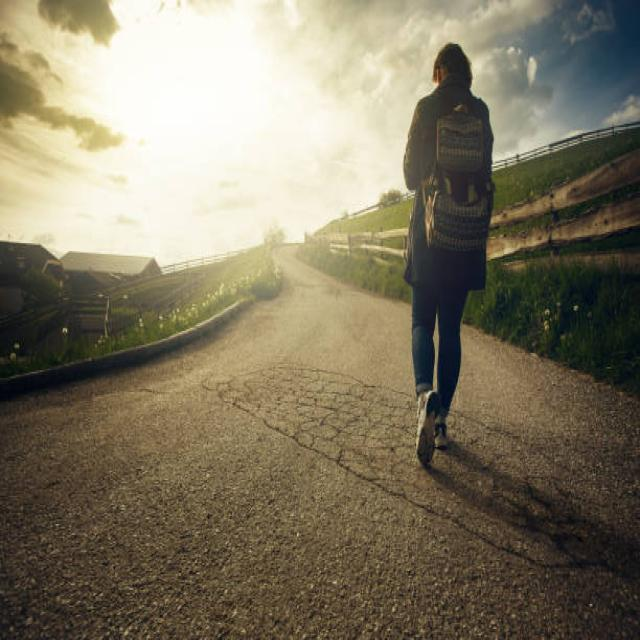Person: (403, 43, 493, 465)
